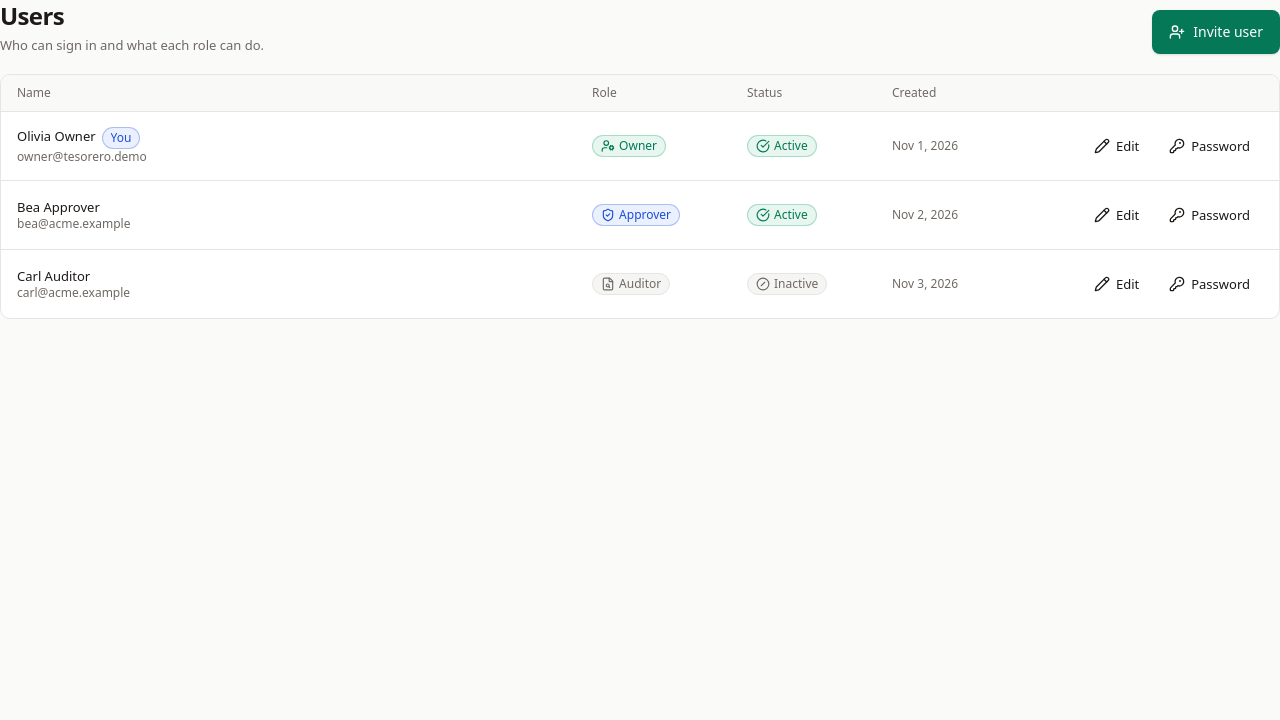
Test case: users admin › rejects a temporary password shorter than 12 characters
Step 1. Click the button with test id "invite-user-button" → [1216, 32], box x1=1152 y1=10 x2=1279 y2=54
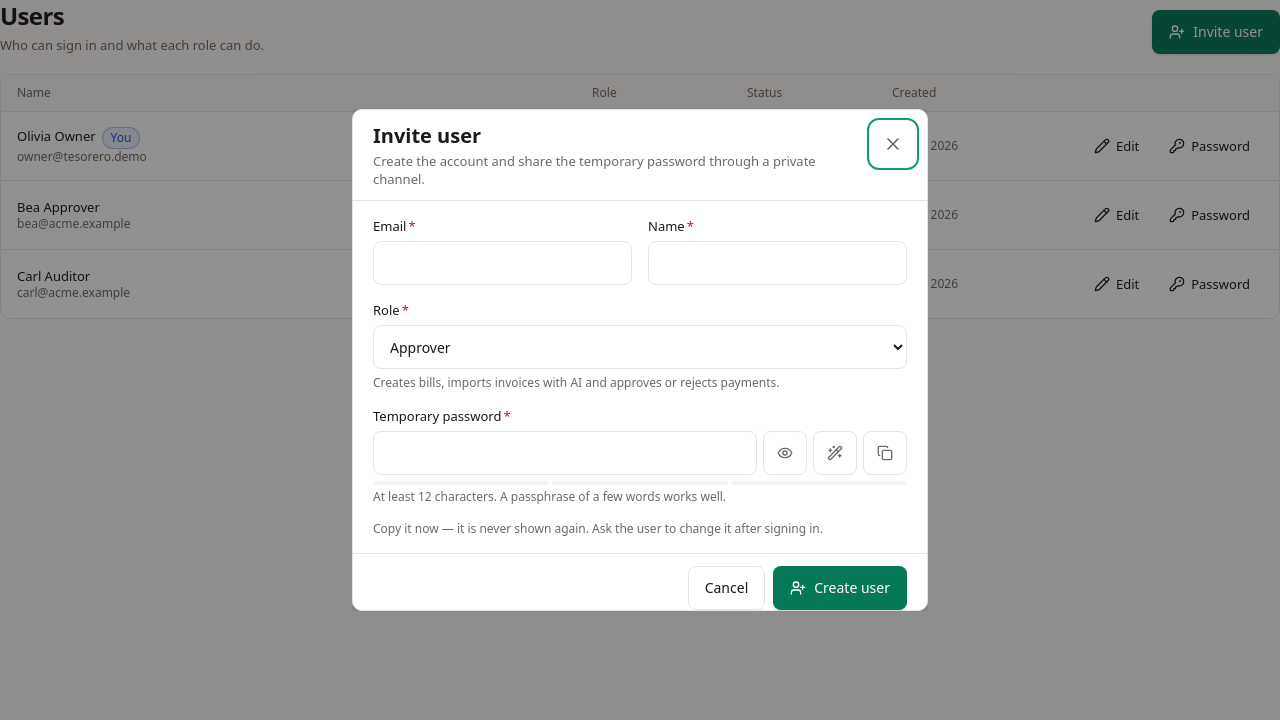
Step 2. Type "dana@acme.example" into the field with test id "user-email" → [502, 263], box x1=373 y1=241 x2=632 y2=285
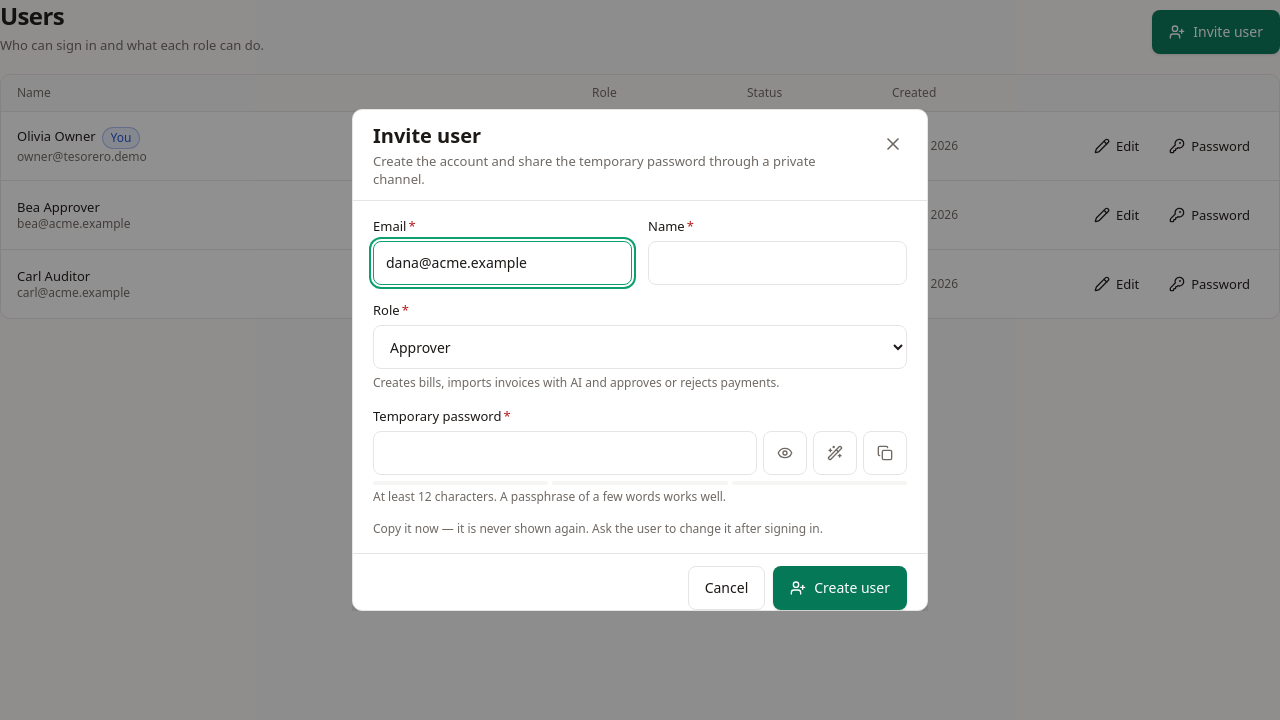
Step 3. Type "Dana Doe" into the field with test id "user-name" → [778, 263], box x1=648 y1=241 x2=907 y2=285
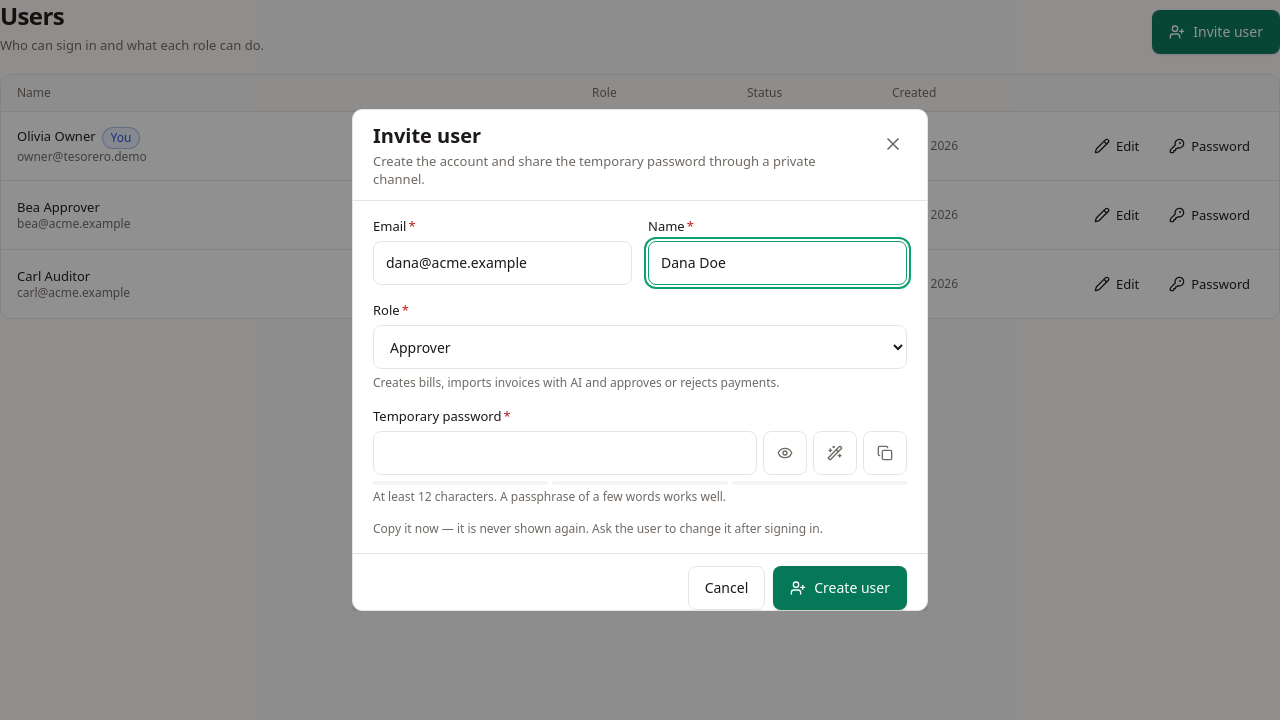
Step 4. Type "short" into the password field with test id "user-password" → [565, 453], box x1=373 y1=431 x2=757 y2=475
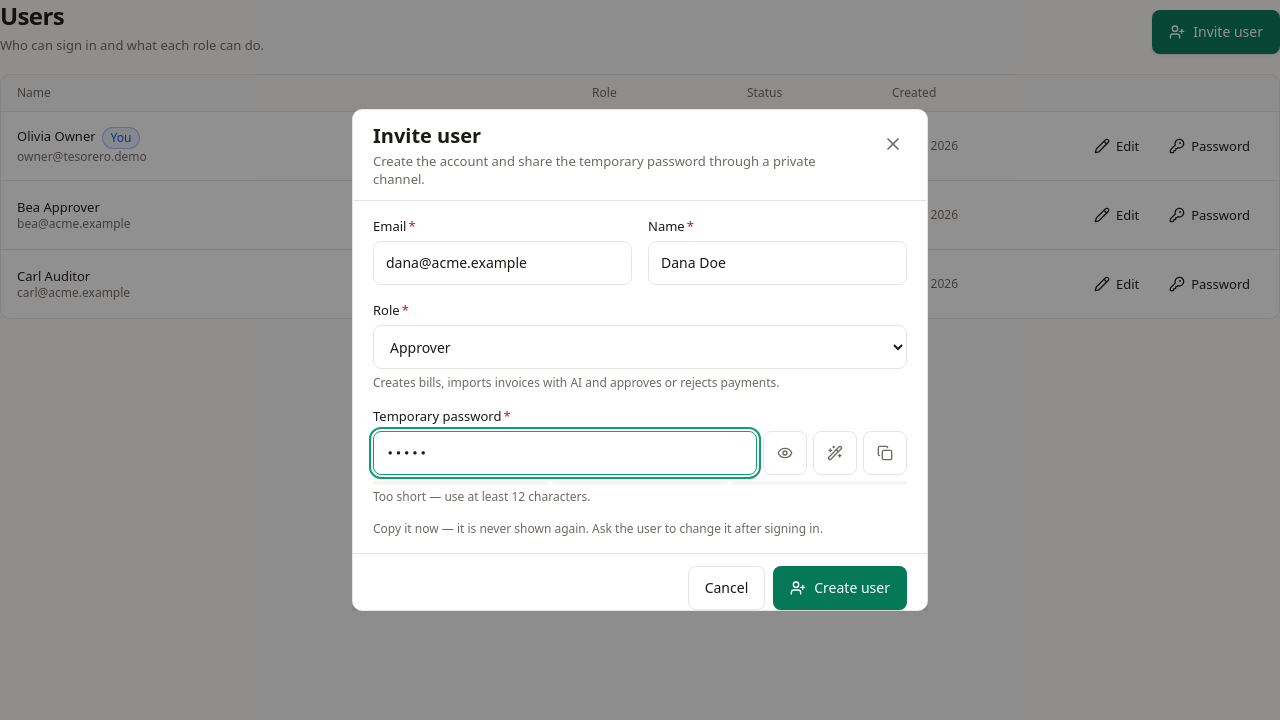
Step 5. Click the button with test id "user-form-submit" → [840, 588], box x1=773 y1=566 x2=907 y2=610
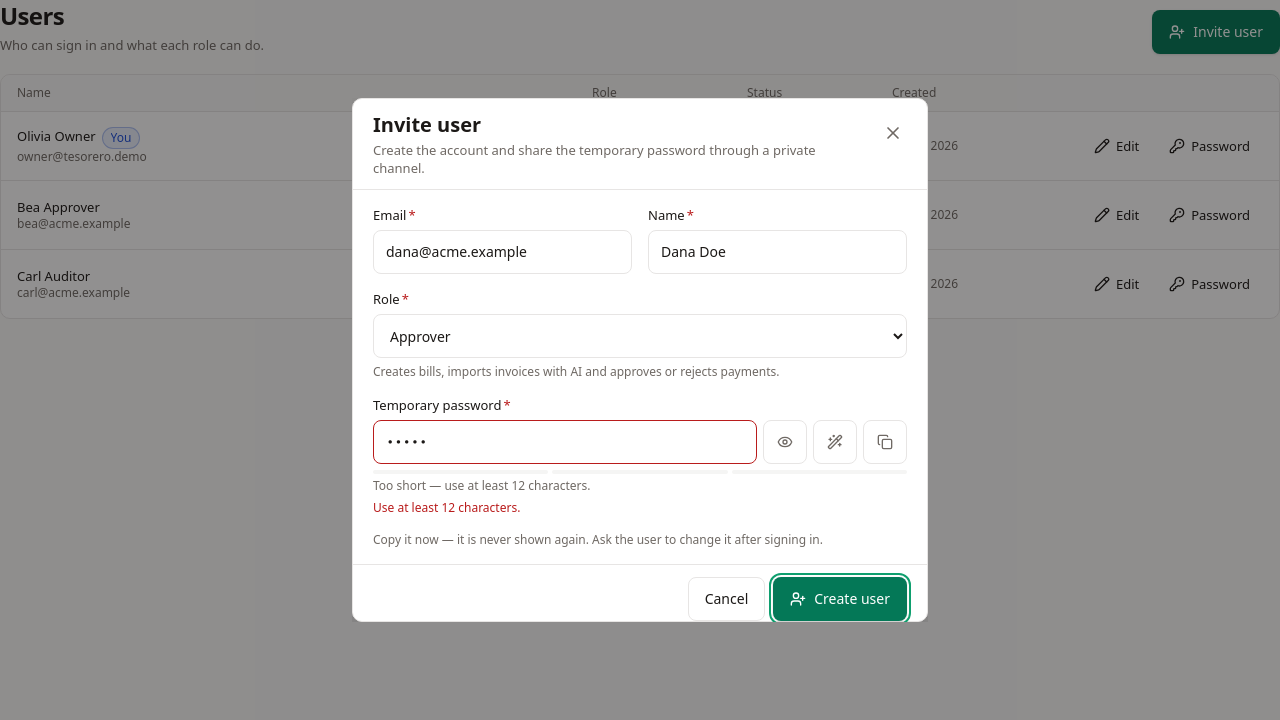
expect the text "Use at least 12 characters." is shown: met, box x1=373 y1=499 x2=520 y2=516
